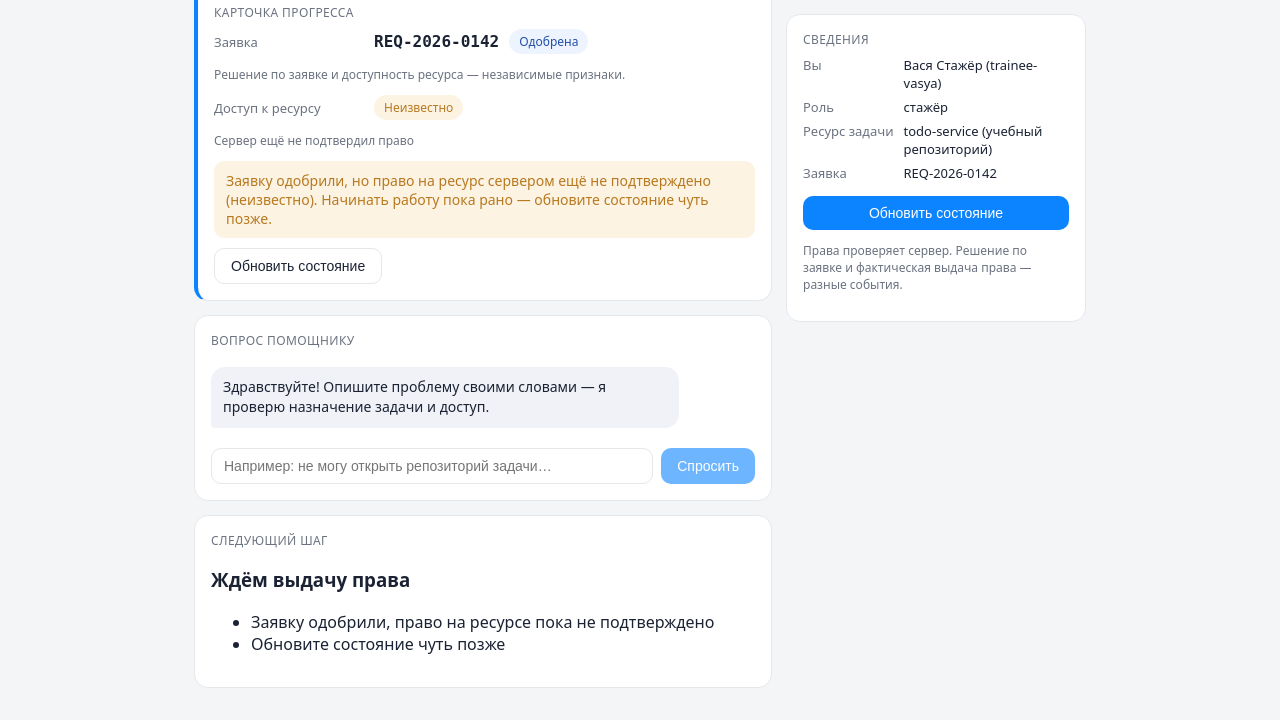
Test: F4: восстановление и следующий шаг › в состоянии approved без права кнопки возврата к задаче нет даже после повторного вопроса
(page scrolled)
Check: the message with test id "wait-access-note" is shown, box [214,161,755,238]
Step 1. Type "Могу начинать?" into the field named "Текст вопроса" → (432, 466), box [211,448,653,484]
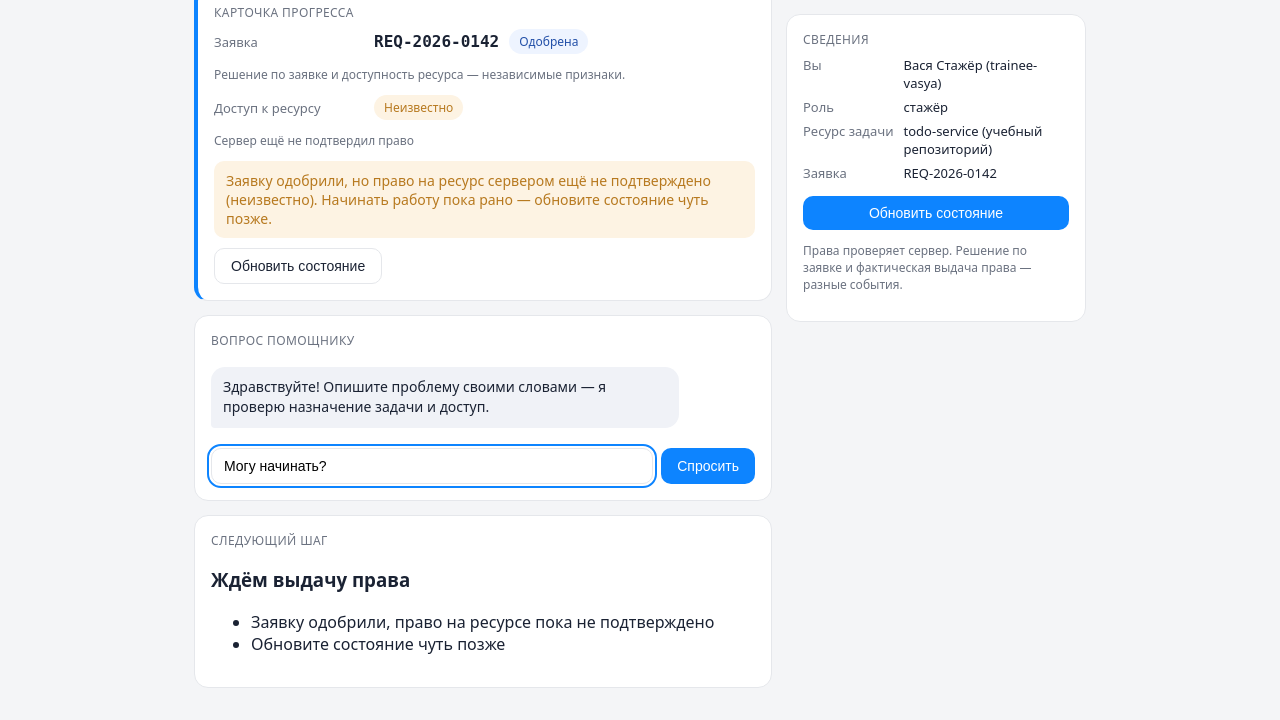
Step 2. Click the button "Спросить" → (708, 466), box [661,448,755,484]
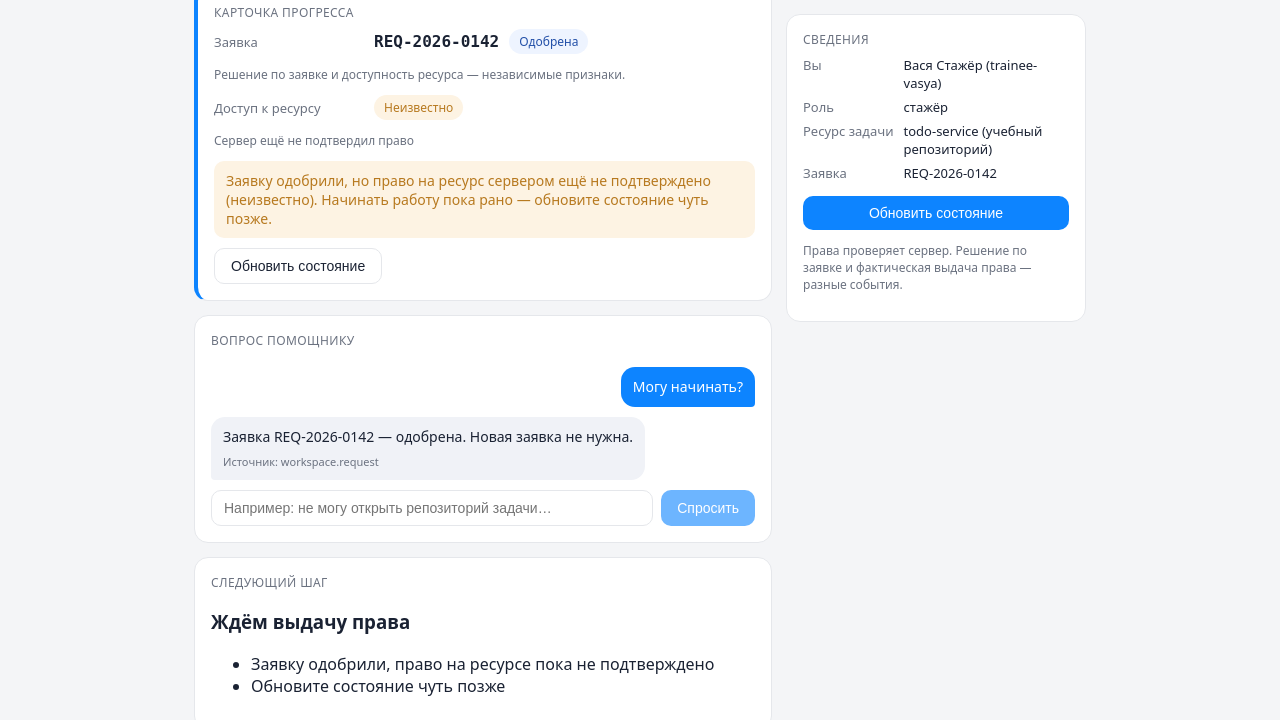
Check: the text "Заявка REQ-2026-0142 — одобрена. Новая заявка не нужна." is shown, box [223,427,633,448]
